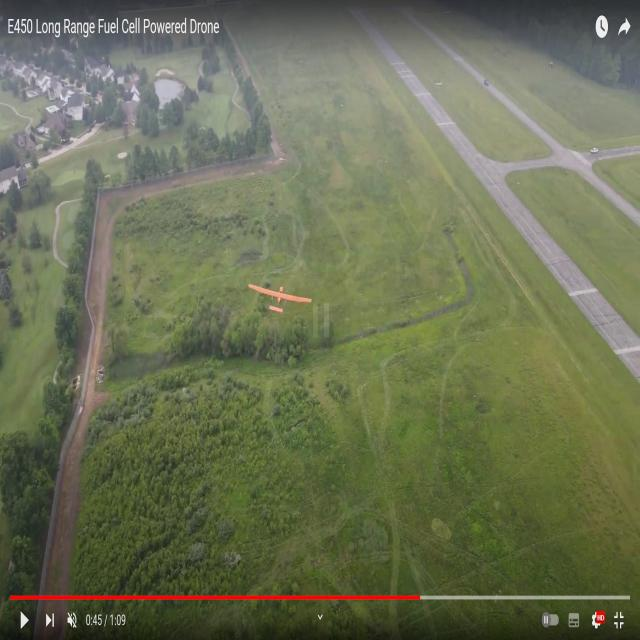iha: (255, 280, 309, 310)
